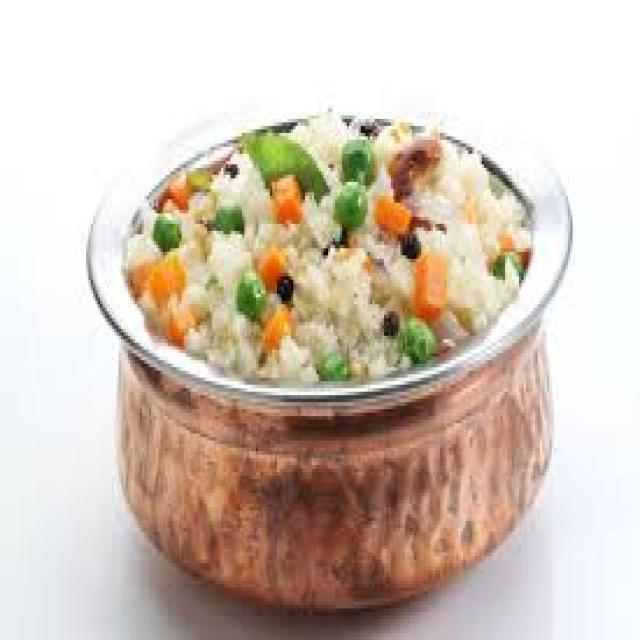UPMA: (116, 108, 528, 374)
